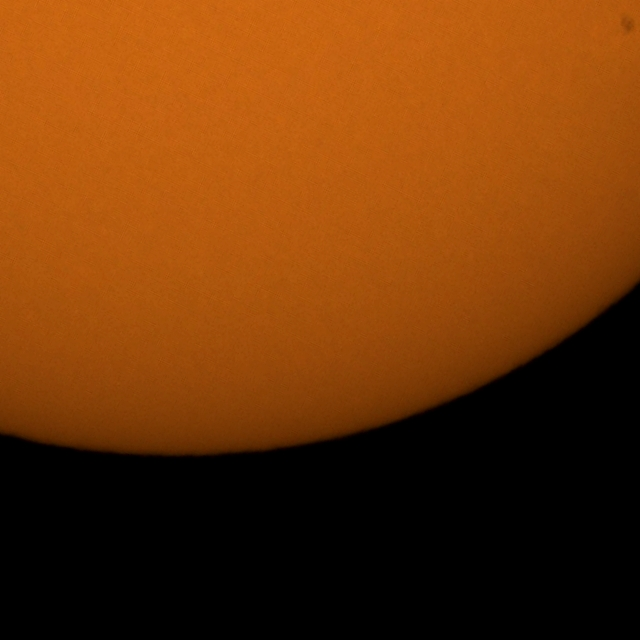sunspot: (620, 17, 638, 38)
